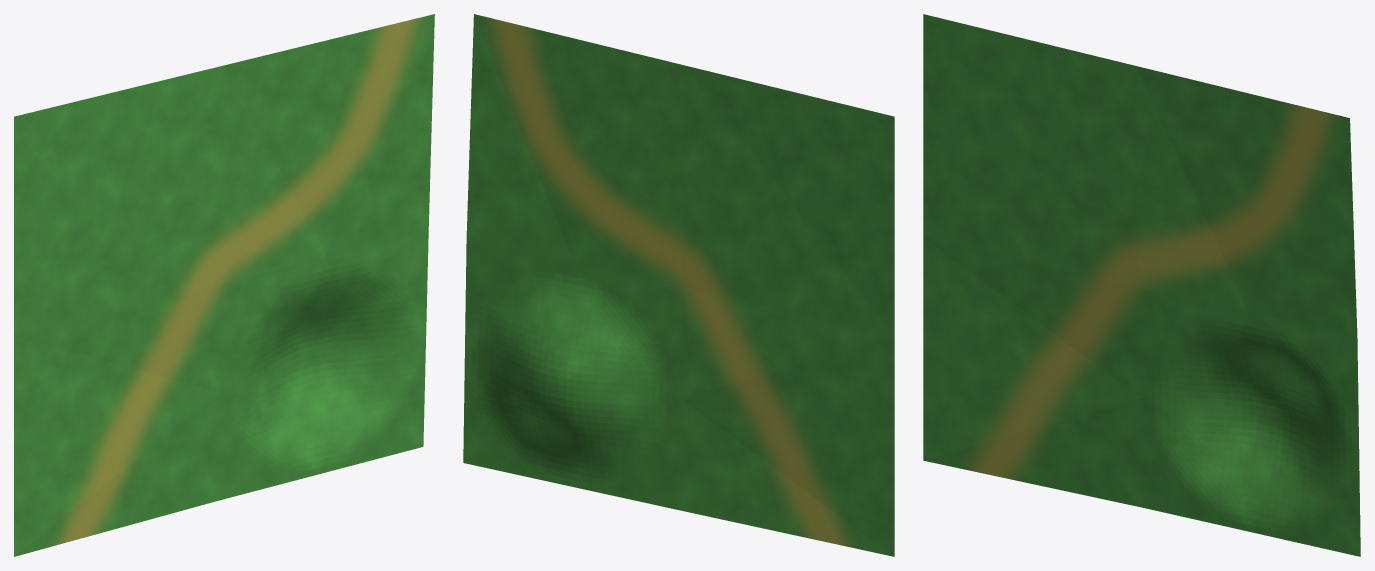
File: Ground02.fbx
The picture shows the model from 3 angles, left to right: view 1: azimuth 30°, elevation 25°; view 2: azimuth 150°, elevation 25°; view 3: azimuth 330°, elevation 25°; orthographic projection.
Parts seen in each view (by area): view 1: 平面; view 2: 平面; view 3: 平面.
Part boxes in pixels (x1=…): 平面: x1=14, y1=14, x2=434, y2=556; 平面: x1=463, y1=14, x2=894, y2=556; 平面: x1=923, y1=14, x2=1360, y2=556.
Size of the model in its own units: 357 by 357 by 30.83.
